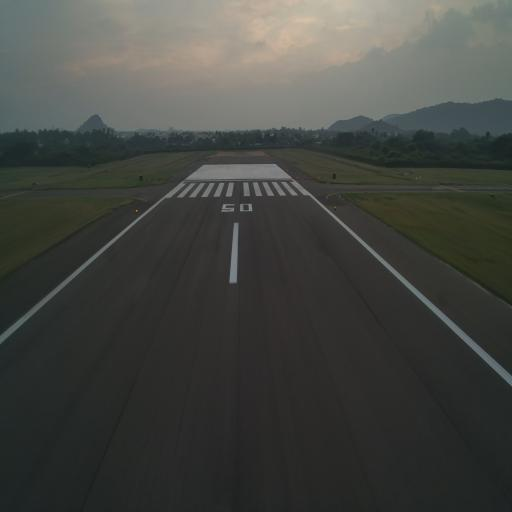on: (332, 204, 338, 211), (135, 206, 139, 214)
